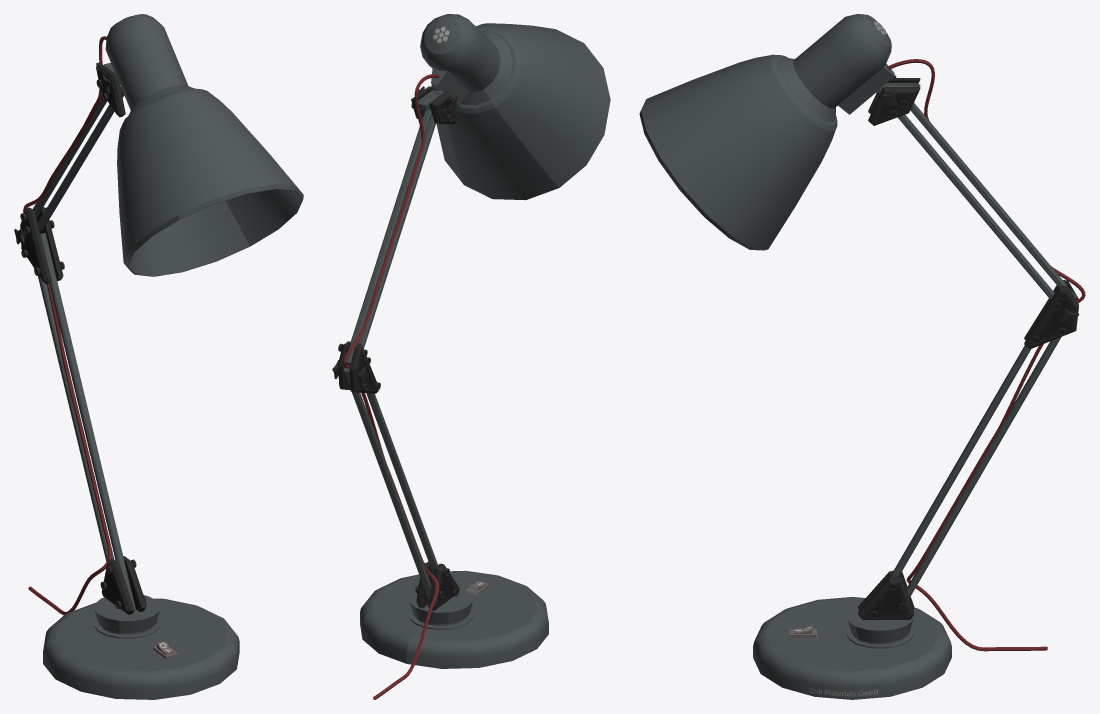
Rendered from desk_lamp.glb.
The picture shows the model from 3 angles, left to right: view 1: azimuth 30°, elevation 25°; view 2: azimuth 150°, elevation 25°; view 3: azimuth 270°, elevation 25°; orthographic projection. The views are drawn at different scales.
Visible parts, largest first — view 1: desk_lamp_low; view 2: desk_lamp_low; view 3: desk_lamp_low.
Boxes of the visible parts, x1,y1,x2,y2 form: desk_lamp_low: (14, 14, 303, 699); desk_lamp_low: (332, 14, 610, 699); desk_lamp_low: (639, 14, 1085, 699).
Bounding box in the file's own units: 1.31 × 4.65 × 2.94.
1 material, 1 textured.
